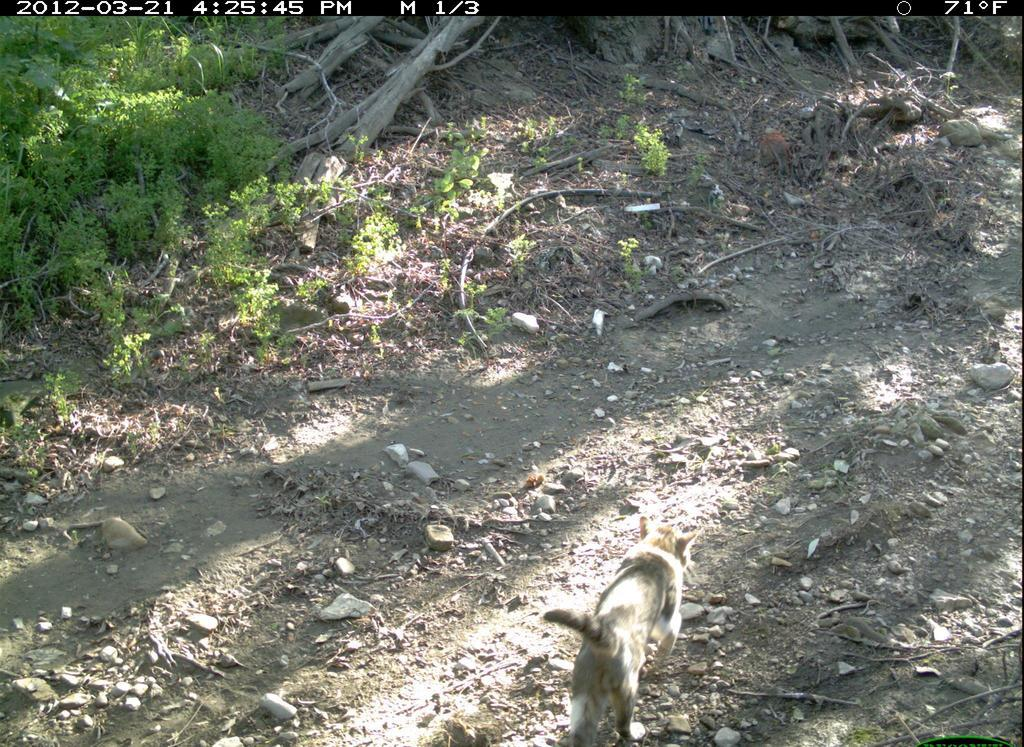cat: (541, 509, 710, 747)
